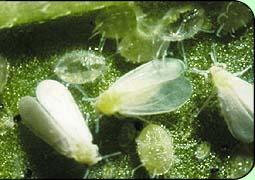whitefly: (19, 79, 120, 178), (82, 57, 192, 132), (190, 48, 255, 144)
